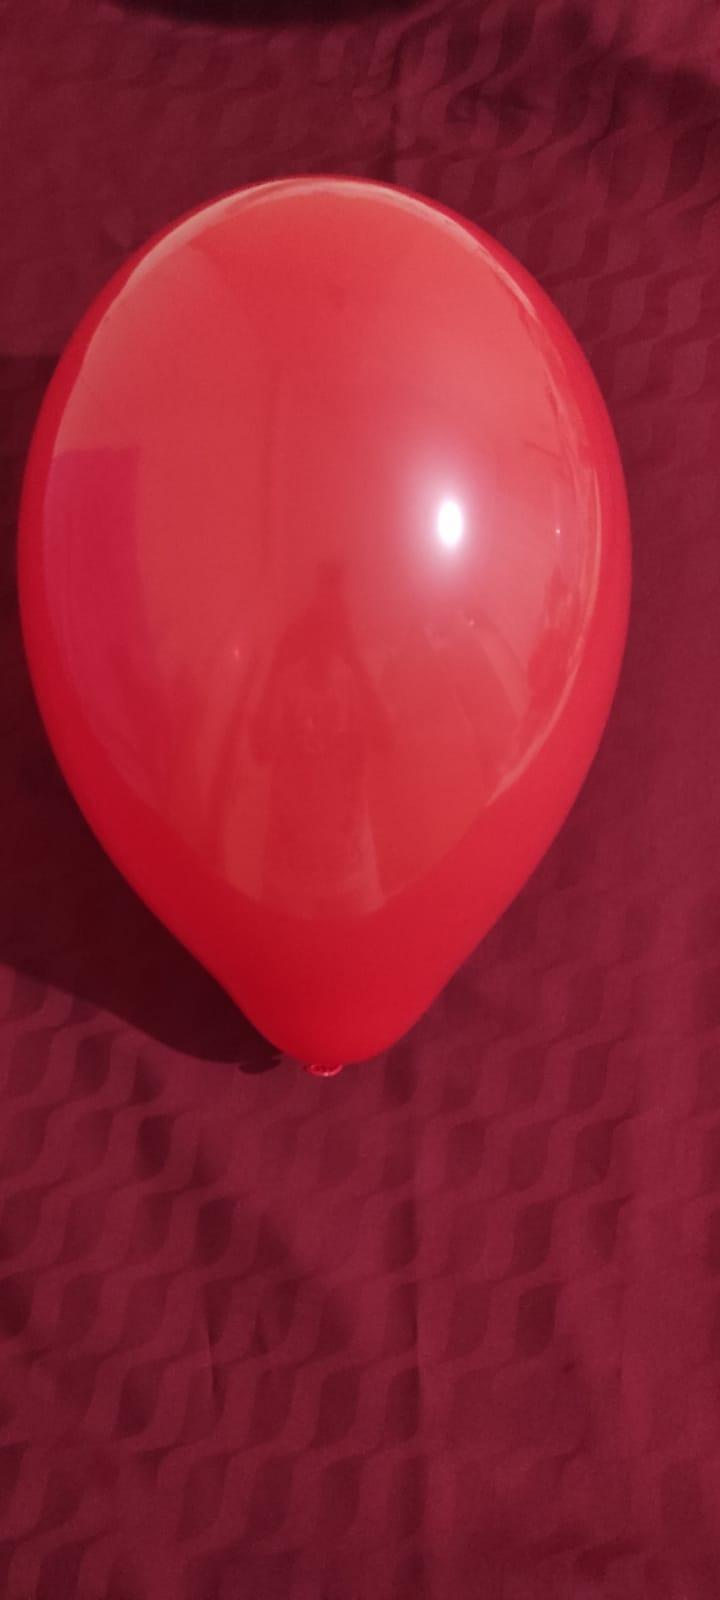red: (10, 164, 639, 1085)
